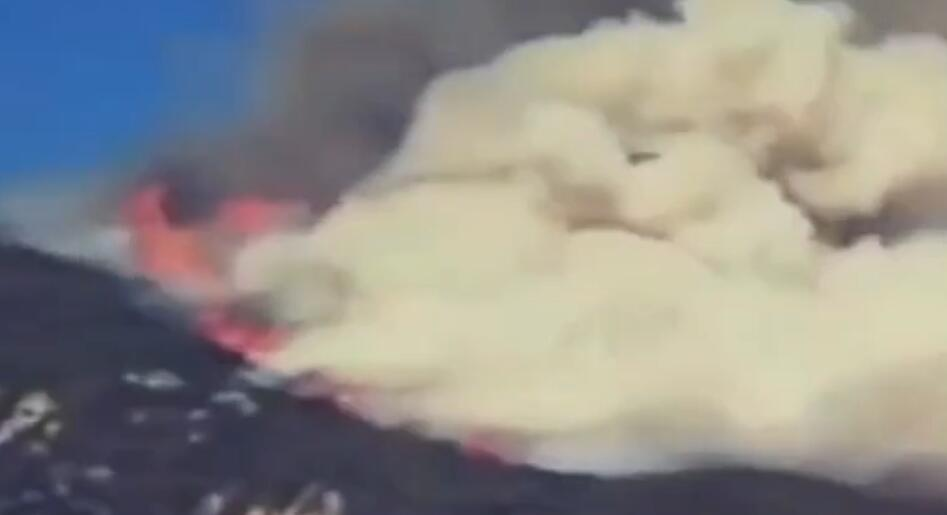yanwu: (29, 8, 946, 478)
